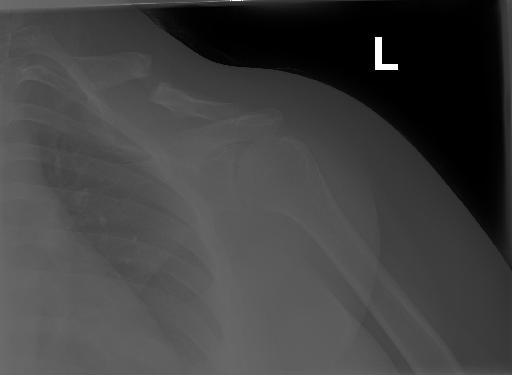shoulder fracture: (112, 47, 227, 130)
